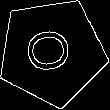O_E: (23, 27, 81, 78)
